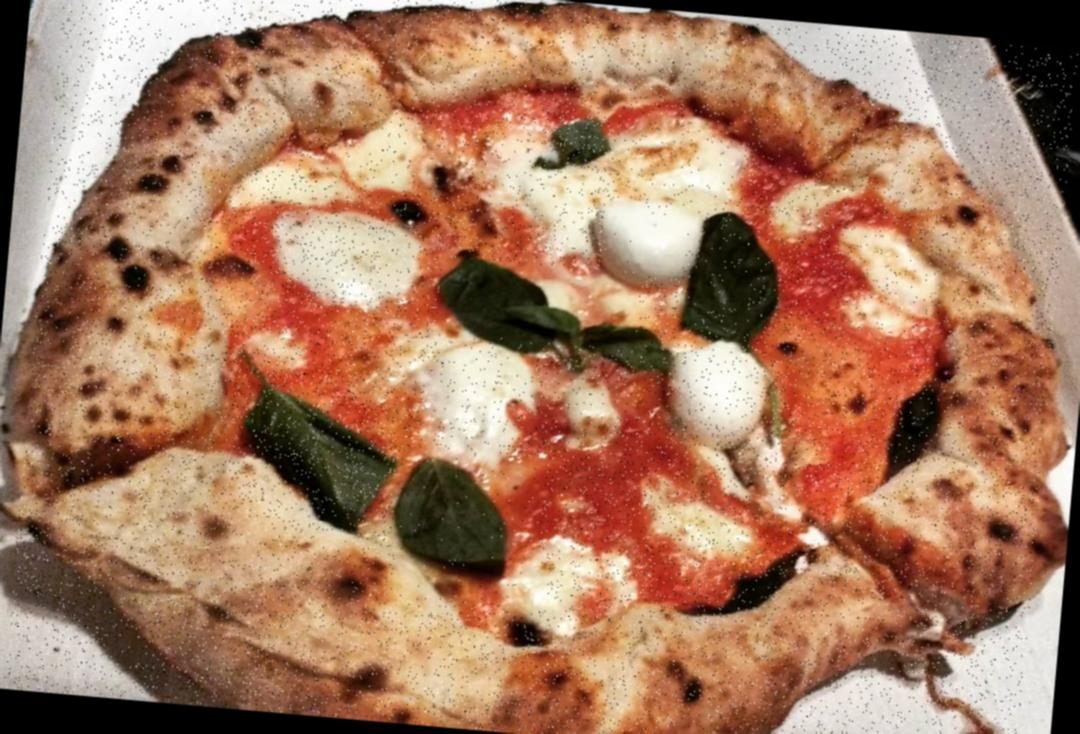Basil: (237, 360, 400, 526), (390, 446, 546, 607), (436, 257, 640, 350), (680, 206, 782, 333), (540, 110, 608, 177)
Cheese: (430, 329, 549, 465), (265, 214, 425, 313), (661, 333, 797, 445), (848, 235, 961, 360), (618, 120, 744, 205), (600, 203, 702, 278), (348, 128, 432, 193)
Pizza: (3, 0, 1078, 734)
